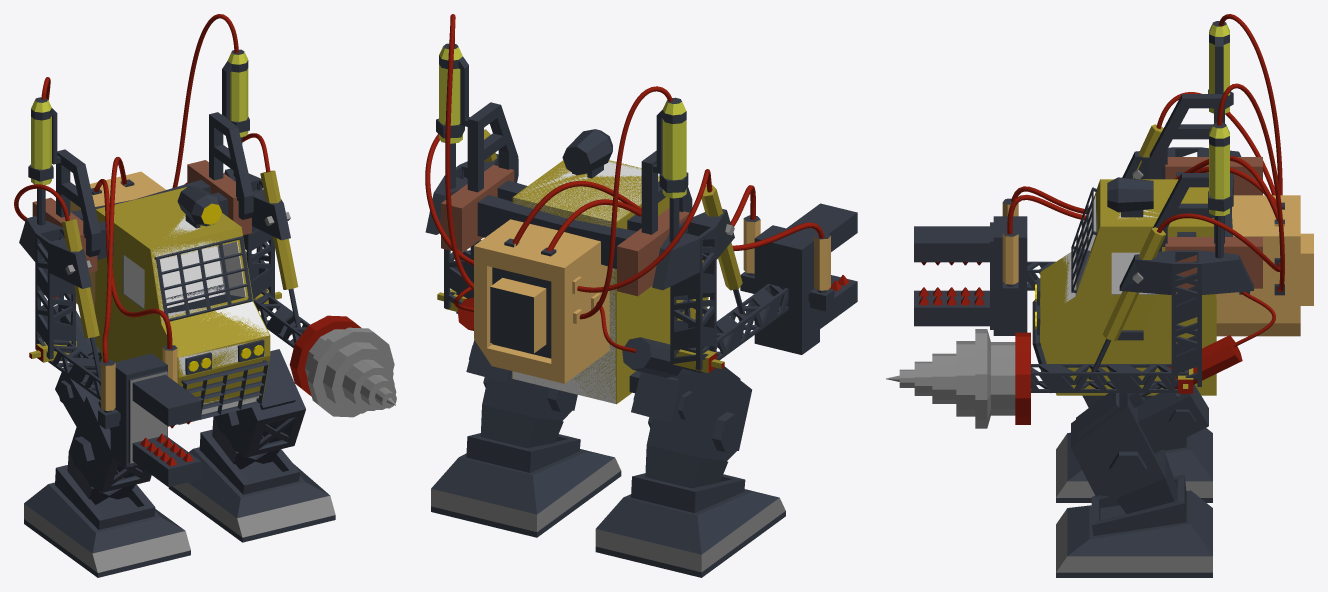
The model's file is Krot1.fbx.
3 renders of one model, left to right at view 1: azimuth 30°, elevation 25°; view 2: azimuth 150°, elevation 25°; view 3: azimuth 270°, elevation 25°, orthographic. The views are drawn at different scales.
Visible parts, largest first — view 1: Cube.012, Cube, Cylinder.002, Cube.011, Cylinder.003, Доп кабина, Plane.003, Cube.004, Cube.006, Cube.003, Plane.002, Plane (+14 smaller); view 2: Cube.012, Cube.002, Cube.011, Cube, Cylinder.002, Cube.003, Plane.003, Cube.006, Доп кабина, Cube.010, Cube.004, Plane.002 (+13 smaller); view 3: Cube, Cube.012, Cube.002, Cylinder.003, Cylinder.002, Cube.011, Cube.004, Plane.002, Plane.003, Cube.003, Cube.006, Cube.010 (+14 smaller).
Boxes of the visible parts, x1,y1,x2,y2 form: Cube.012: (24,429,335,577); Cube: (95,185,270,404); Cylinder.002: (28,49,253,256); Cube.011: (67,349,305,504); Cylinder.003: (289,315,396,417); Доп кабина: (123,215,268,414); Plane.003: (35,178,274,359); Cube.004: (19,168,290,288); Cube.006: (110,353,167,467); Cube.003: (32,160,251,272); Plane.002: (48,290,310,400); Plane: (154,236,252,321); Cube.012: (431,433,785,577); Cube.002: (474,219,609,383); Cube.011: (480,366,751,488); Cube: (511,129,708,404); Cylinder.002: (436,43,692,243); Cube.003: (441,165,689,296); Plane.003: (444,164,716,370); Cube.006: (754,225,819,354); Доп кабина: (512,161,659,403); Cube.010: (466,340,708,429); Cube.004: (425,153,734,290); Plane.002: (456,284,788,373); Cube: (1035,177,1216,395); Cube.012: (1056,428,1212,577); Cube.002: (1216,195,1313,336); Cylinder.003: (886,329,1030,428); Cylinder.002: (1149,21,1233,258); Cube.011: (1071,393,1177,513); Cube.004: (1119,147,1253,294); Plane.002: (1027,261,1188,392); Plane.003: (1171,147,1201,386); Cube.003: (1165,157,1262,288); Cube.006: (990,216,1027,335); Cube.010: (1138,384,1208,453).
Bounding box in the file's own units: 1464 × 2283 × 1849.
